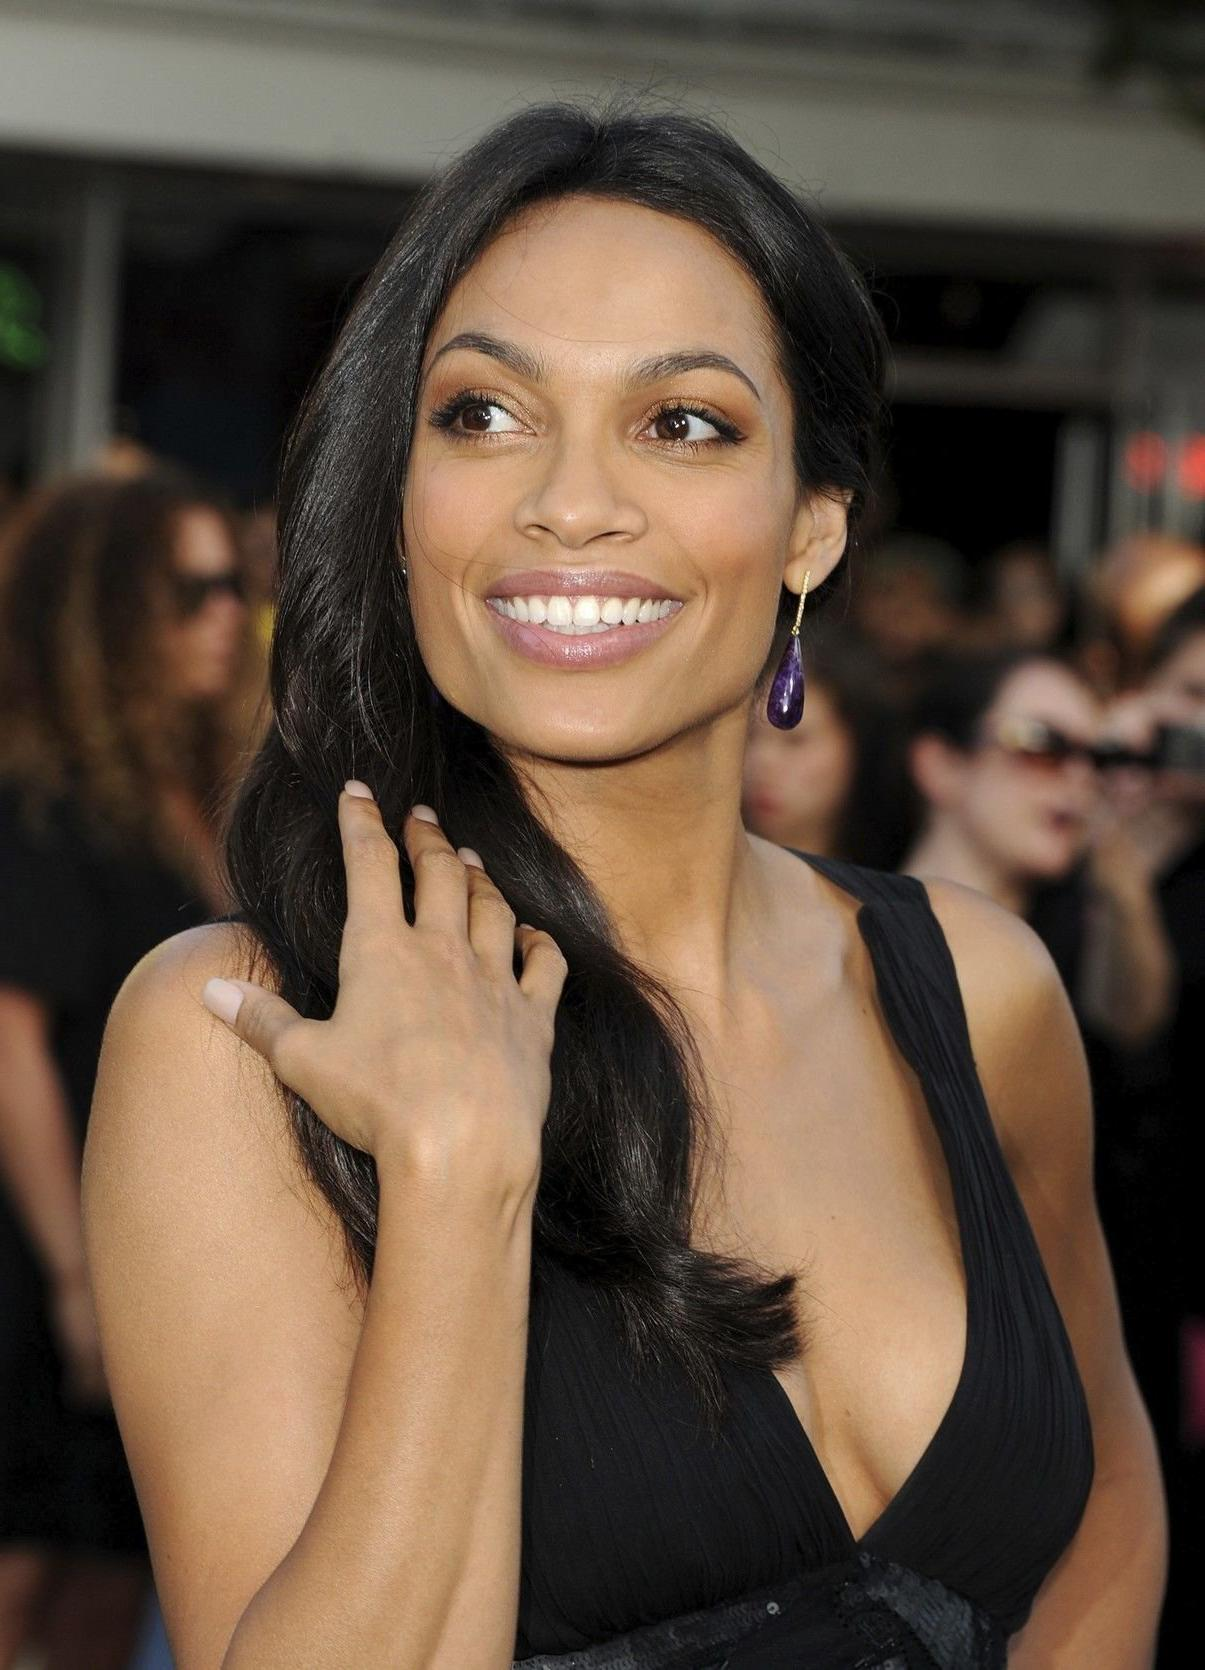Sober: (438, 274, 789, 708)
